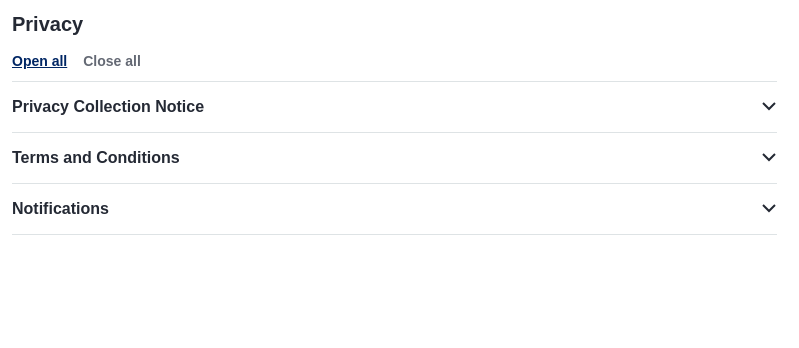
Test: selected TaPaaS maturity components › keeps legal info accordion content as placeholder review text
Click the button "Terms and Conditions". click: (96, 158)
box: left=12, top=133, right=777, bottom=183
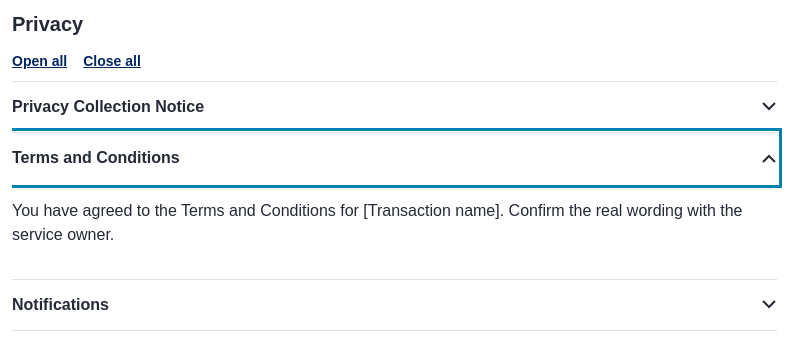
Expected: the button "Terms and Conditions" is expanded, left=12, top=133, right=777, bottom=183
Expected: the text "Confirm the real wording with the service owner" is shown, left=12, top=202, right=742, bottom=243
